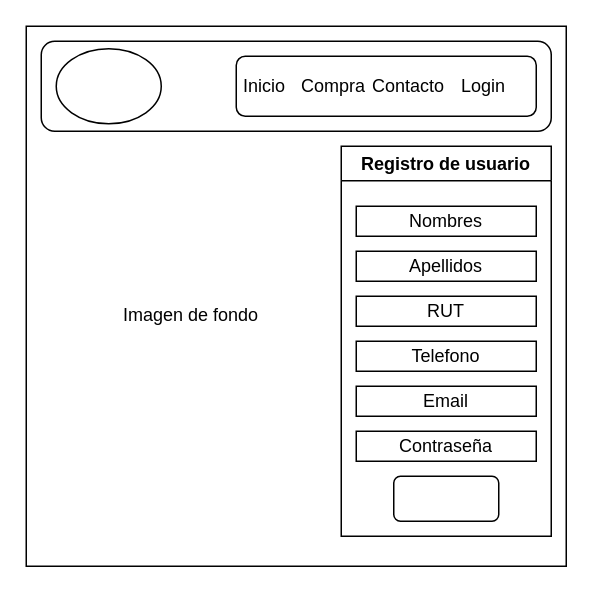
Some shapes in this 593 by 593 pixel diagram are drawn without their labels. Here are the shapes that lost their labels. From the top down, the centre of each, then its label:
the point at 108,85: Hotel Luxor
the point at 445,498: REGISTRARSE
